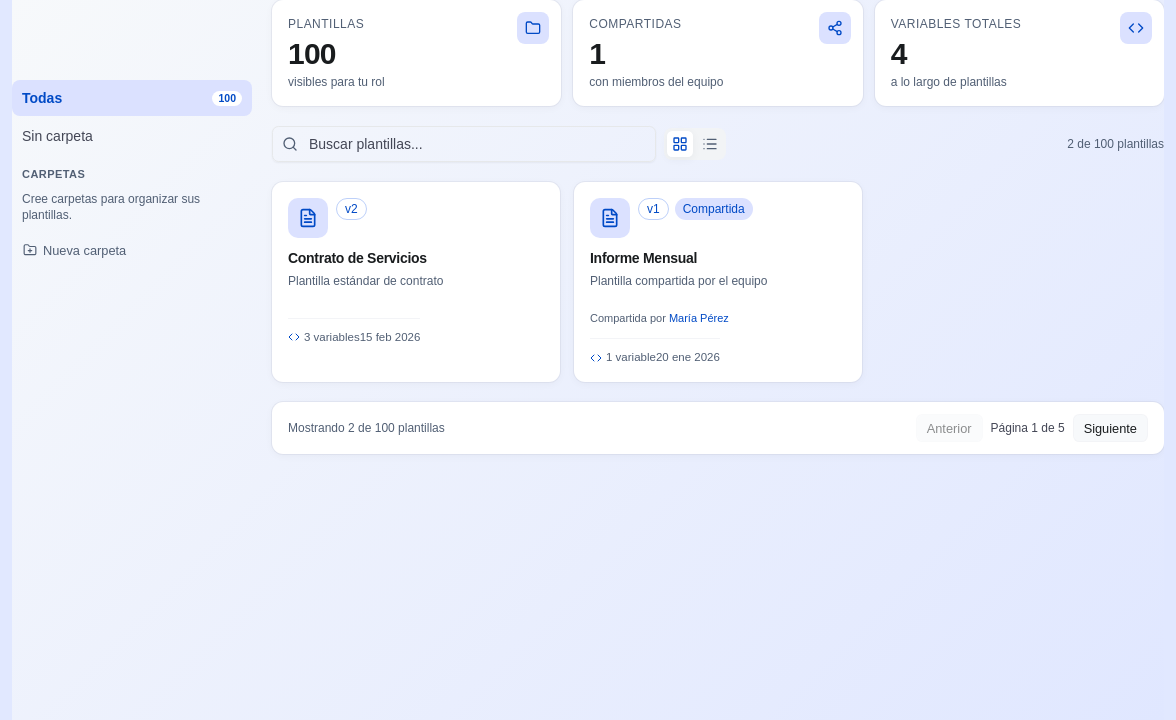
Test: TemplateList — page clamp when total shrinks › clamps back to the last valid page when a refetch reports a shrunken total
Expected: the heading "Contrato de Servicios" is shown, [288,250,443,268]
# Navigate to page 3.
Click the button "Siguiente".
click(1110, 428)  # box [1073,414,1148,442]
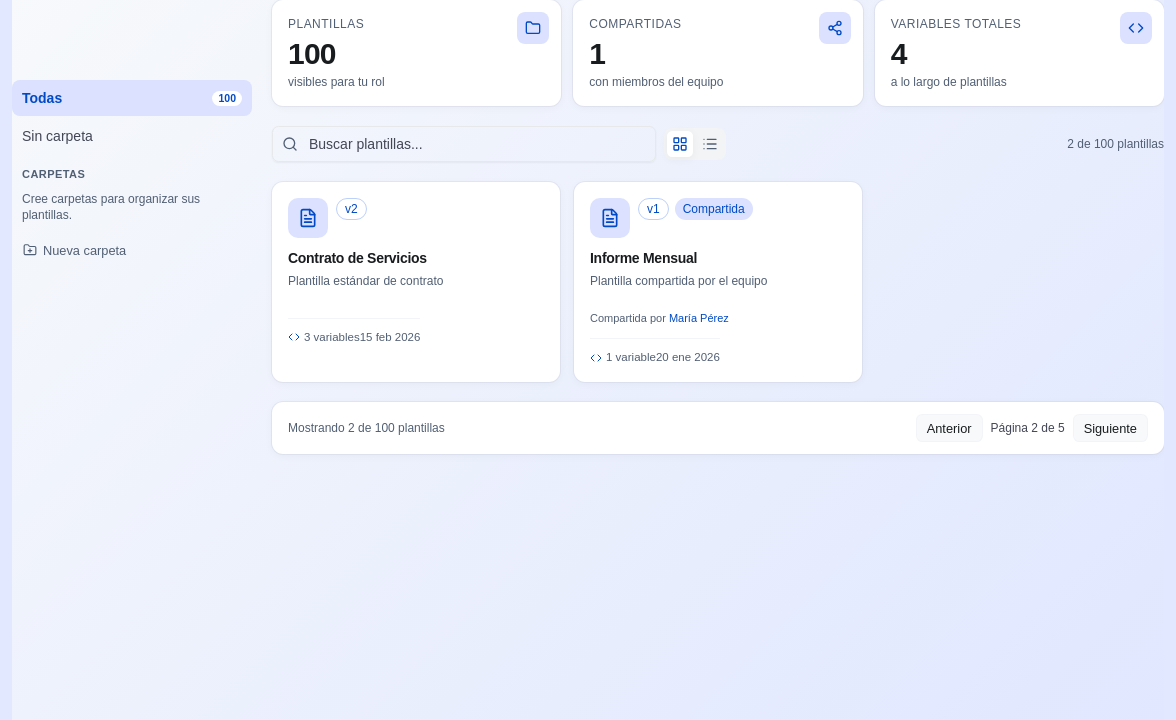
Click the button "Siguiente".
click(1110, 428)  # box [1073,414,1148,442]
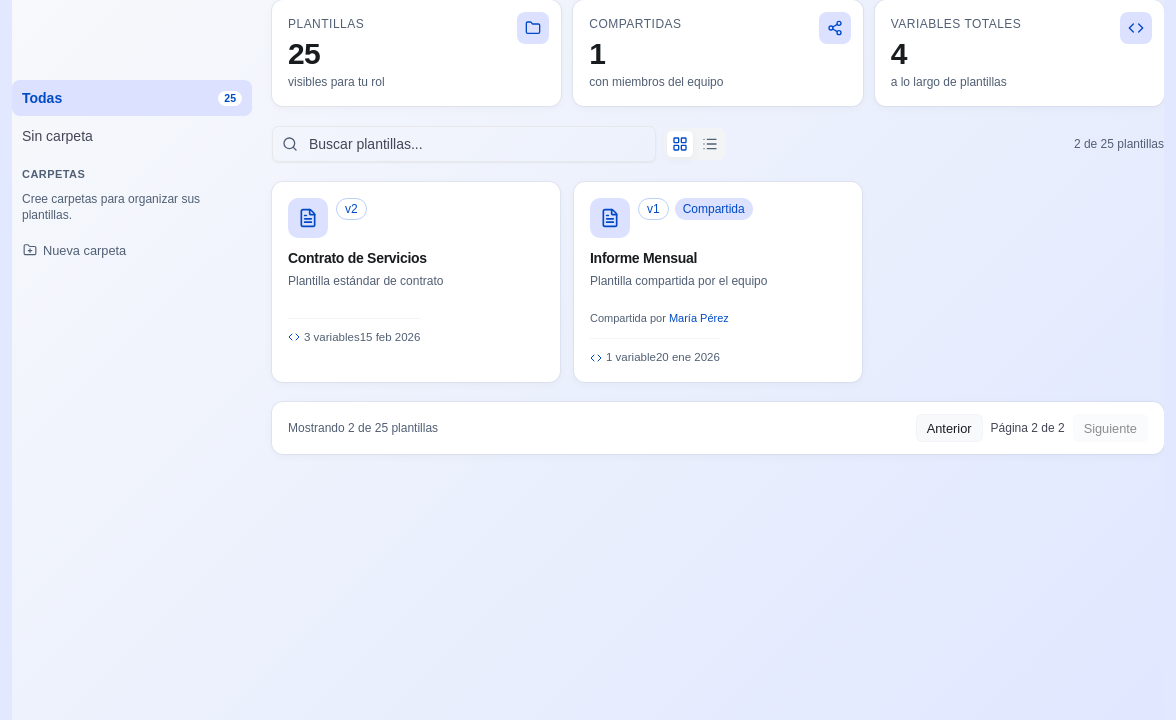
Expected: the text "Página 2 de 2" is shown, [990,420,1065,436]
